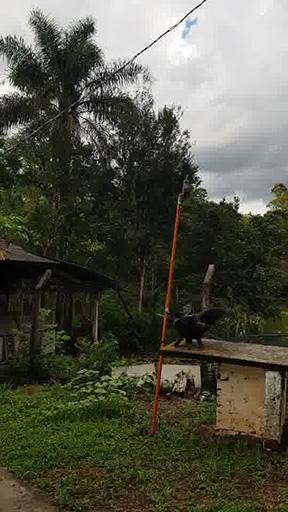Detector_Tensao_Contato: (181, 173, 189, 197)
Vara_Manobra: (151, 198, 182, 435)
